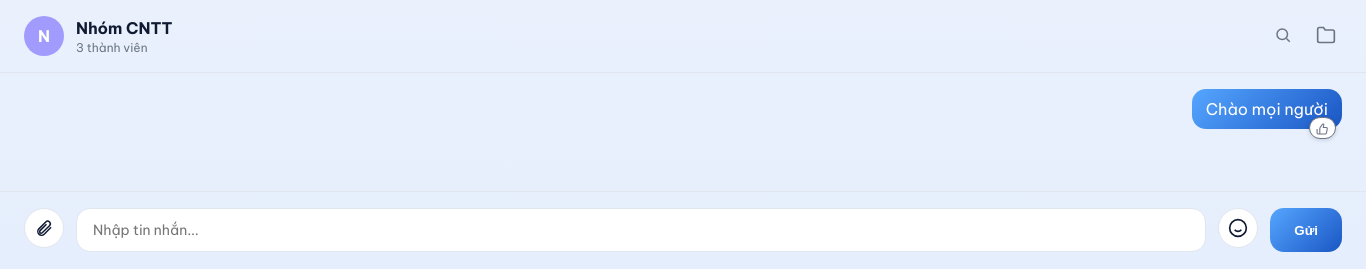
KhungTinNhan › bam vao tin nhan hien gio:phut, bam lai lan nua thi an di
Click the button "Chào mọi người". click: [1267, 109]
box: 1192,89 -> 1342,129
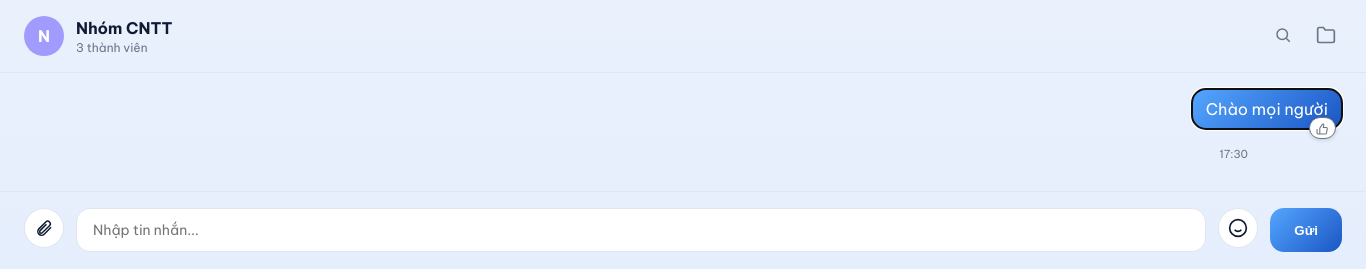
Check: the text "17:30" is shown, box 1220,147 -> 1248,161
Click the button "Chào mọi người". click: [1267, 109]
box: 1192,89 -> 1342,129
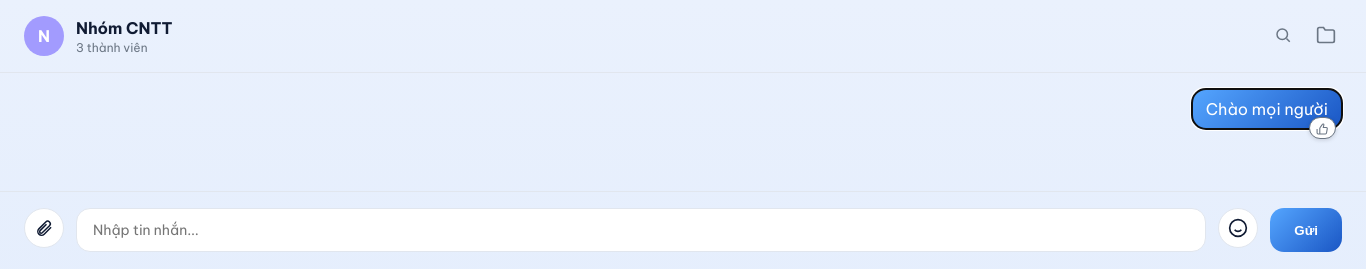
Check: the text "17:30" is gone
